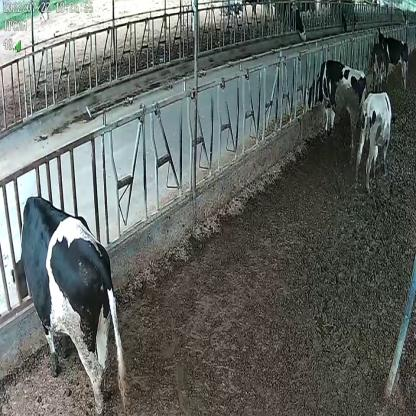cow: (12, 194, 127, 416), (304, 59, 368, 165), (355, 89, 393, 188), (371, 43, 388, 92)
